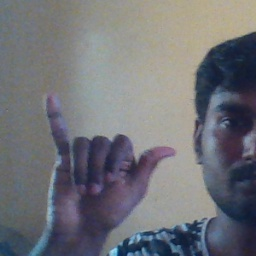J: (40, 91, 176, 230)
